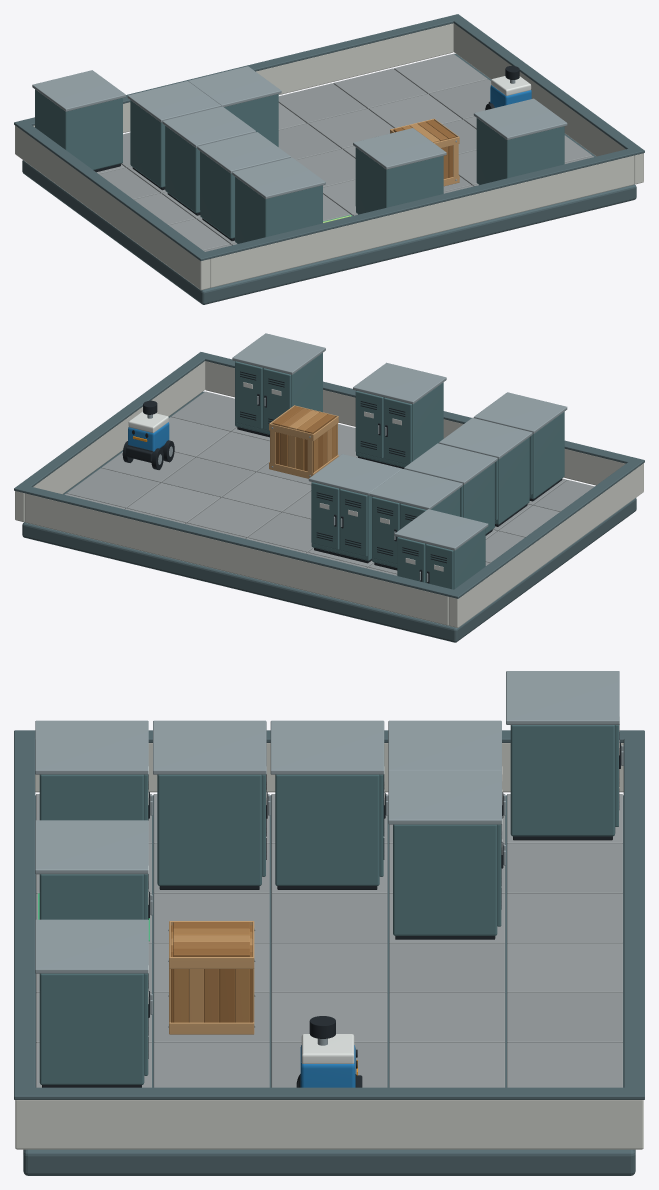
3 views of the same model, one above another, from view 1: azimuth 30°, elevation 25°; view 2: azimuth 150°, elevation 25°; view 3: azimuth 270°, elevation 25° (orthographic). The views are drawn at different scales.
Parts seen in each view (by area): view 1: Cutaway wall.002, Floor foundation, obstacle_0, obstacle_7, obstacle_6, obstacle_1, Cutaway wall, Cutaway wall.003, obstacle_4, obstacle_3, obstacle_2, Cutaway wall.001 (+23 smaller); view 2: Cutaway wall.003, Floor foundation, obstacle_6, obstacle_7, obstacle_5, Cutaway wall, obstacle_0, obstacle_4, obstacle_1, obstacle_2, Cutaway wall.001, crate (+22 smaller); view 3: Cutaway wall.001, Floor foundation, obstacle_3, obstacle_2, obstacle_0, obstacle_5, obstacle_7, obstacle_1, obstacle_6, crate, Wall coping.001, Wall coping.002 (+25 smaller).
Boxes of the visible parts, left/top/right/bottom form: Cutaway wall.002: left=210, top=155, right=634, bottom=287; Floor foundation: left=22, top=53, right=636, bottom=304; obstacle_0: left=32, top=70, right=125, bottom=172; obstacle_7: left=473, top=98, right=567, bottom=184; obstacle_6: left=353, top=128, right=446, bottom=214; obstacle_1: left=232, top=157, right=325, bottom=243; Cutaway wall: left=15, top=125, right=210, bottom=290; Cutaway wall.003: left=33, top=23, right=453, bottom=132; obstacle_4: left=127, top=81, right=221, bottom=190; obstacle_3: left=162, top=106, right=255, bottom=215; obstacle_2: left=197, top=132, right=290, bottom=240; Cutaway wall.001: left=453, top=23, right=643, bottom=184; Cutaway wall.003: left=24, top=493, right=448, bottom=625; Floor foundation: left=22, top=391, right=636, bottom=642; obstacle_6: left=353, top=362, right=446, bottom=468; obstacle_7: left=232, top=333, right=325, bottom=437; obstacle_5: left=308, top=454, right=401, bottom=563; Cutaway wall: left=448, top=463, right=643, bottom=627; obstacle_0: left=394, top=509, right=488, bottom=589; obstacle_4: left=369, top=469, right=462, bottom=570; obstacle_1: left=473, top=392, right=567, bottom=501; obstacle_2: left=439, top=417, right=532, bottom=526; Cutaway wall.001: left=15, top=361, right=205, bottom=522; crate: left=269, top=405, right=338, bottom=478; Cutaway wall.001: left=15, top=1100, right=643, bottom=1149; Floor foundation: left=23, top=795, right=635, bottom=1175; obstacle_3: left=270, top=720, right=388, bottom=889; obstacle_2: left=153, top=720, right=270, bottom=889; obstacle_0: left=506, top=671, right=623, bottom=840; obstacle_5: left=388, top=770, right=505, bottom=939; obstacle_7: left=35, top=919, right=152, bottom=1087; obstacle_1: left=35, top=720, right=152, bottom=820; obstacle_6: left=35, top=820, right=152, bottom=919; crate: left=168, top=921, right=255, bottom=1034; Wall coping.001: left=14, top=1087, right=644, bottom=1099; Wall coping.002: left=14, top=738, right=35, bottom=1087.
Bounding box in the file's own units: 7.36 × 1.44 × 5.36.
